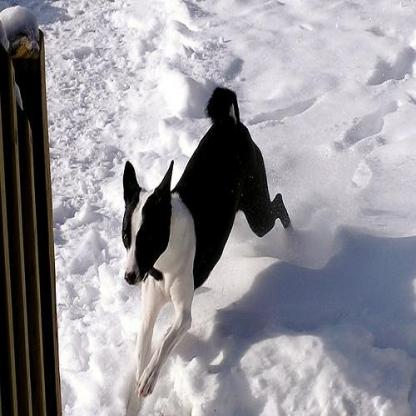basenji: (118, 82, 292, 397)
